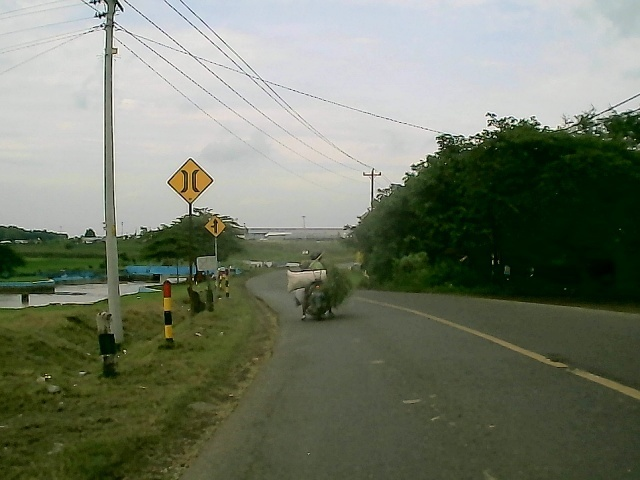Jembatan: (166, 156, 216, 206)
Simpang kiri dengan prioritas: (204, 214, 226, 239)
